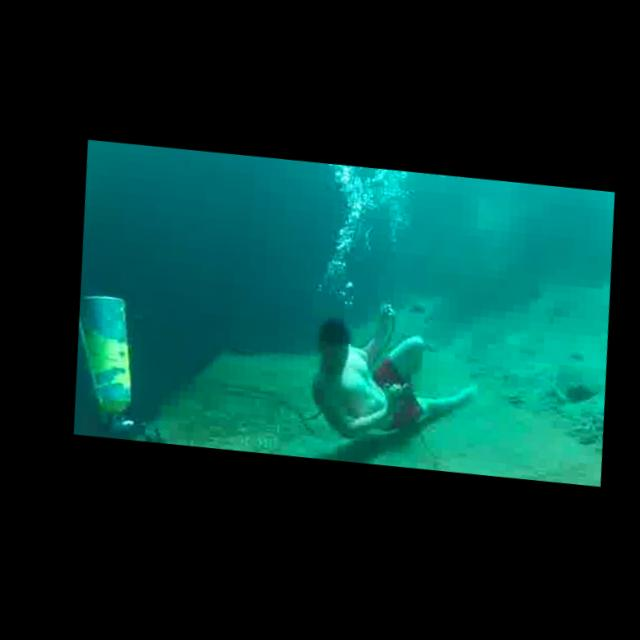human: (291, 290, 487, 464)
